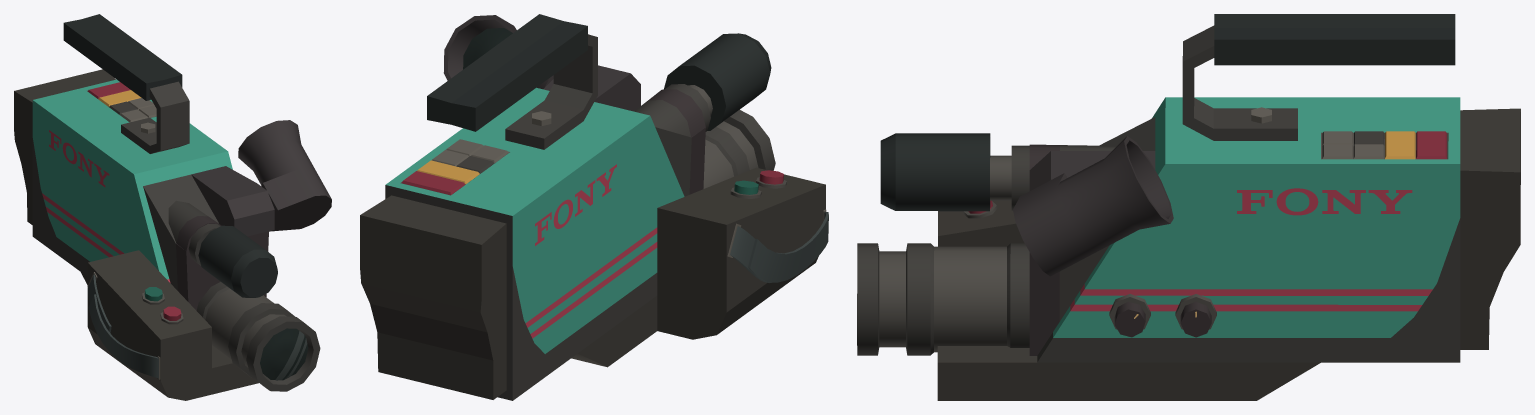
Rendered from camera5.glb.
The picture shows the model from 3 angles, left to right: view 1: azimuth 30°, elevation 25°; view 2: azimuth 150°, elevation 25°; view 3: azimuth 270°, elevation 25°; orthographic projection. The views are drawn at different scales.
Visible parts, largest first — view 1: Cube_3, Cube.006_8, Cylinder.003_20, Cube.009_11, Cube.003_6, Cylinder.002_19, Cube.008_10, Cube.002_5, Cube.001_4, Cube.004_7, Cube.011_13, Cylinder.004_21 (+7 smaller); view 2: Cube_3, Cube.001_4, Cube.006_8, Cube.003_6, Cylinder.002_19, Cube.002_5, Cylinder.003_20, Cube.007_9, Rectangle.003_33, Cube.012_14, Cube.009_11, Cube.008_10 (+6 smaller); view 3: Cube_3, Cylinder.003_20, Cube.007_9, Cube.003_6, Cube.009_11, Cube.001_4, Cylinder.002_19, Cube.002_5, Cube.006_8, Cube.011_13, Cube.004_7, Text.001_35 (+6 smaller).
Boxes of the visible parts, box(x1,y1,x2,y2) form: Cube_3: box(32, 79, 232, 282); Cube.006_8: box(87, 250, 211, 400); Cylinder.003_20: box(196, 282, 320, 391); Cube.009_11: box(238, 120, 331, 231); Cube.003_6: box(63, 14, 182, 100); Cylinder.002_19: box(198, 225, 277, 297); Cube.008_10: box(191, 166, 274, 236); Cube.002_5: box(121, 81, 189, 153); Cube.001_4: box(14, 69, 115, 224); Cube.004_7: box(143, 174, 218, 290); Cube.011_13: box(176, 231, 268, 310); Cylinder.004_21: box(260, 328, 308, 380); Cube_3: box(385, 87, 684, 400); Cube.001_4: box(360, 195, 506, 399); Cube.006_8: box(657, 167, 825, 339); Cube.003_6: box(427, 14, 587, 131); Cylinder.002_19: box(663, 33, 771, 130); Cube.002_5: box(505, 34, 597, 149); Cylinder.003_20: box(703, 109, 775, 188); Cube.007_9: box(571, 296, 657, 367); Rectangle.003_33: box(748, 212, 828, 282); Cube.012_14: box(634, 89, 705, 137); Cube.009_11: box(443, 15, 553, 89); Cube.008_10: box(543, 65, 640, 111); Cube_3: box(1037, 97, 1460, 362); Cylinder.003_20: box(857, 243, 1029, 355); Cube.007_9: box(937, 346, 1320, 400); Cube.003_6: box(1214, 14, 1455, 65); Cube.009_11: box(1013, 136, 1173, 276); Cube.001_4: box(1460, 108, 1520, 349); Cylinder.002_19: box(880, 133, 990, 211); Cube.002_5: box(1182, 25, 1297, 140); Cube.006_8: box(938, 200, 1024, 246); Cube.011_13: box(1029, 252, 1059, 355); Cube.004_7: box(1059, 117, 1155, 321); Text.001_35: box(1237, 188, 1412, 215).
Bounding box in the file's own units: 0.4917 × 0.4934 × 0.8708.
